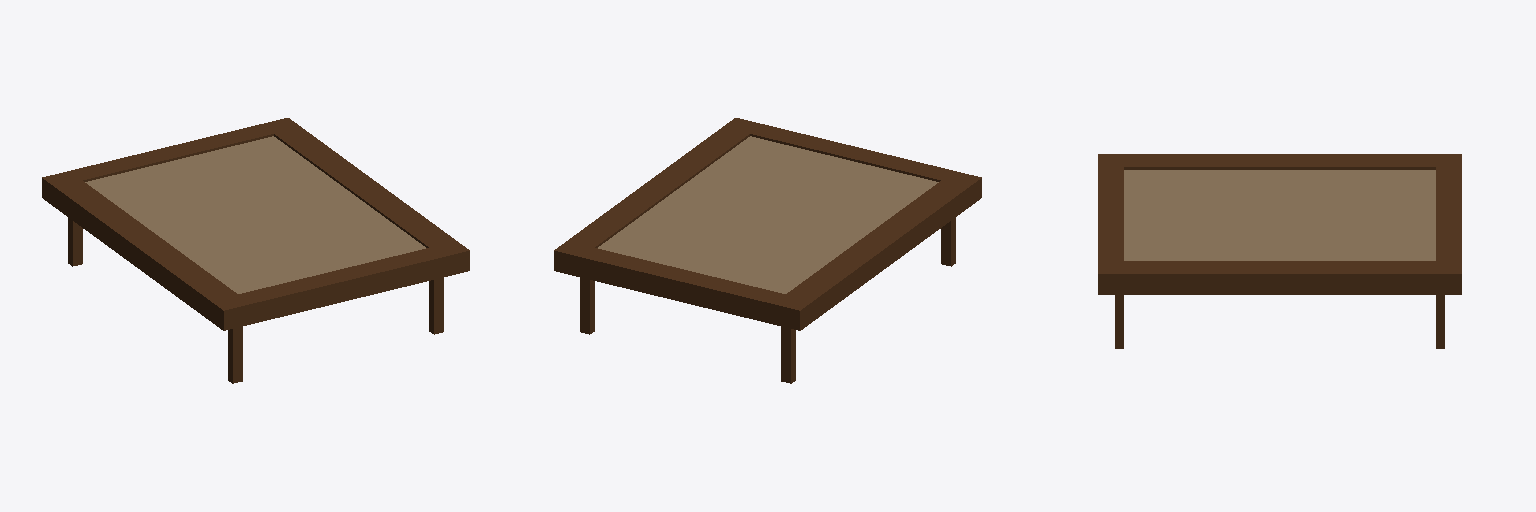
File: table.obj
3 views of the same model, side by side, from view 1: azimuth 30°, elevation 25°; view 2: azimuth 150°, elevation 25°; view 3: azimuth 270°, elevation 25° (orthographic).
Visible parts, largest first — view 1: Cube.020; view 2: Cube.020; view 3: Cube.020.
Part boxes in pixels (bbox=[...]): Cube.020: bbox=[42, 118, 469, 383]; Cube.020: bbox=[554, 118, 981, 383]; Cube.020: bbox=[1098, 154, 1461, 348].
Size of the model in its own units: 7.02 by 2.28 by 8.97.